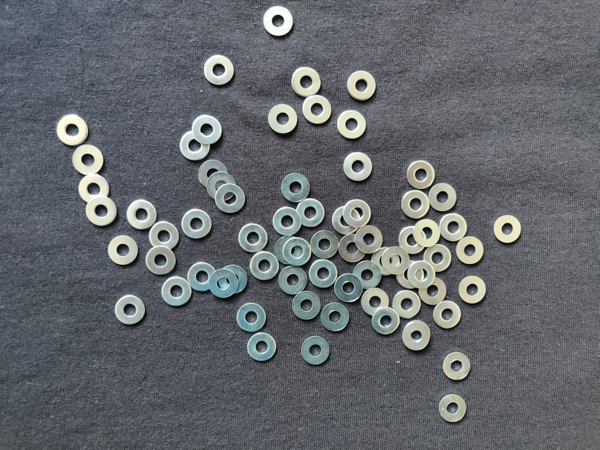circle: (57, 113, 90, 149), (113, 295, 148, 328), (434, 392, 469, 424), (290, 65, 324, 97), (160, 278, 195, 309), (268, 104, 300, 137), (263, 5, 296, 37), (73, 144, 106, 176), (335, 109, 370, 139), (107, 236, 140, 267), (191, 114, 225, 144), (401, 321, 433, 352), (277, 265, 308, 297), (235, 304, 267, 335), (295, 197, 326, 229), (125, 200, 157, 231), (281, 172, 313, 203), (204, 54, 236, 85), (77, 174, 109, 205), (440, 353, 473, 383), (300, 335, 330, 368), (186, 263, 219, 293), (291, 291, 322, 322), (272, 206, 303, 237), (149, 221, 180, 252), (180, 130, 211, 161), (86, 195, 117, 226), (310, 229, 340, 261), (181, 209, 213, 239), (214, 184, 246, 214), (392, 289, 422, 320), (320, 302, 350, 333), (246, 333, 277, 363), (302, 95, 333, 125), (360, 287, 389, 319), (237, 224, 269, 253), (145, 247, 177, 276), (369, 308, 399, 338), (198, 158, 228, 188), (347, 70, 377, 100), (274, 235, 303, 266), (344, 152, 375, 181), (404, 320, 431, 353), (432, 301, 462, 330), (458, 276, 488, 305), (407, 260, 436, 290), (342, 199, 372, 228), (308, 260, 338, 289), (250, 252, 279, 282), (402, 189, 431, 218), (332, 207, 361, 236), (206, 172, 235, 201), (419, 277, 447, 307), (382, 246, 410, 276), (456, 237, 486, 265), (428, 183, 458, 211), (407, 161, 437, 189), (339, 234, 367, 264), (220, 265, 248, 295), (396, 259, 423, 290), (398, 227, 429, 254), (334, 274, 362, 303), (372, 247, 400, 276), (494, 216, 523, 244), (355, 224, 383, 253), (352, 263, 382, 290), (283, 239, 311, 267), (210, 270, 238, 298), (439, 214, 468, 241), (413, 220, 442, 247), (424, 244, 451, 272)
